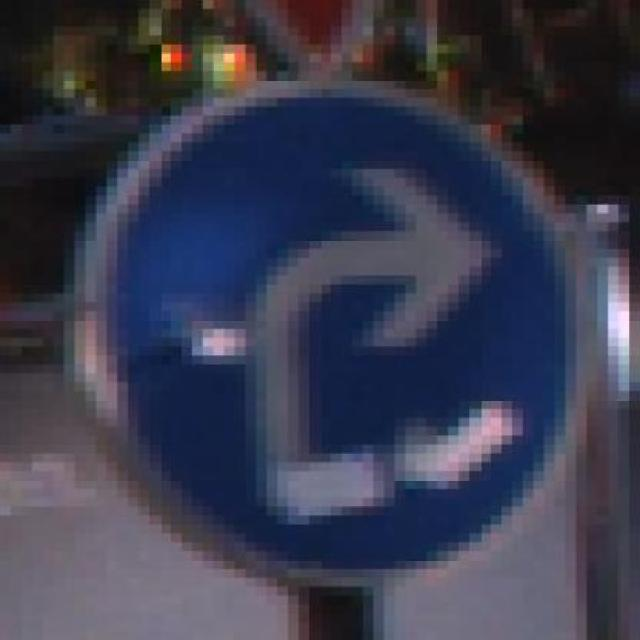Turn right ahead: (53, 71, 598, 587)
